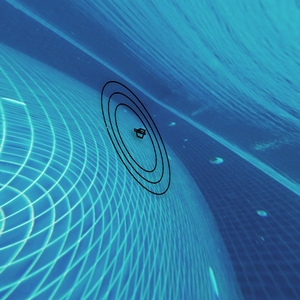submarine: (135, 123, 147, 138)
